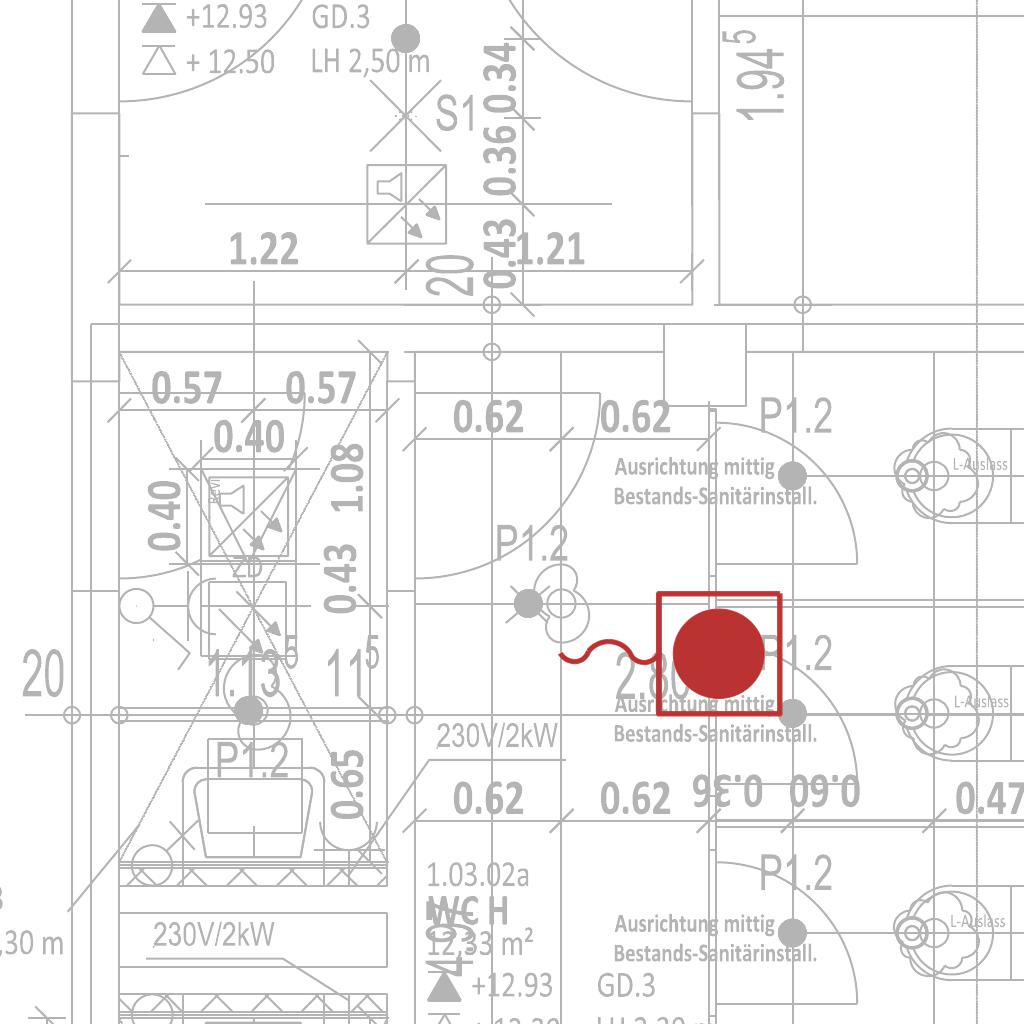Zugtaster: (547, 580, 791, 724)
